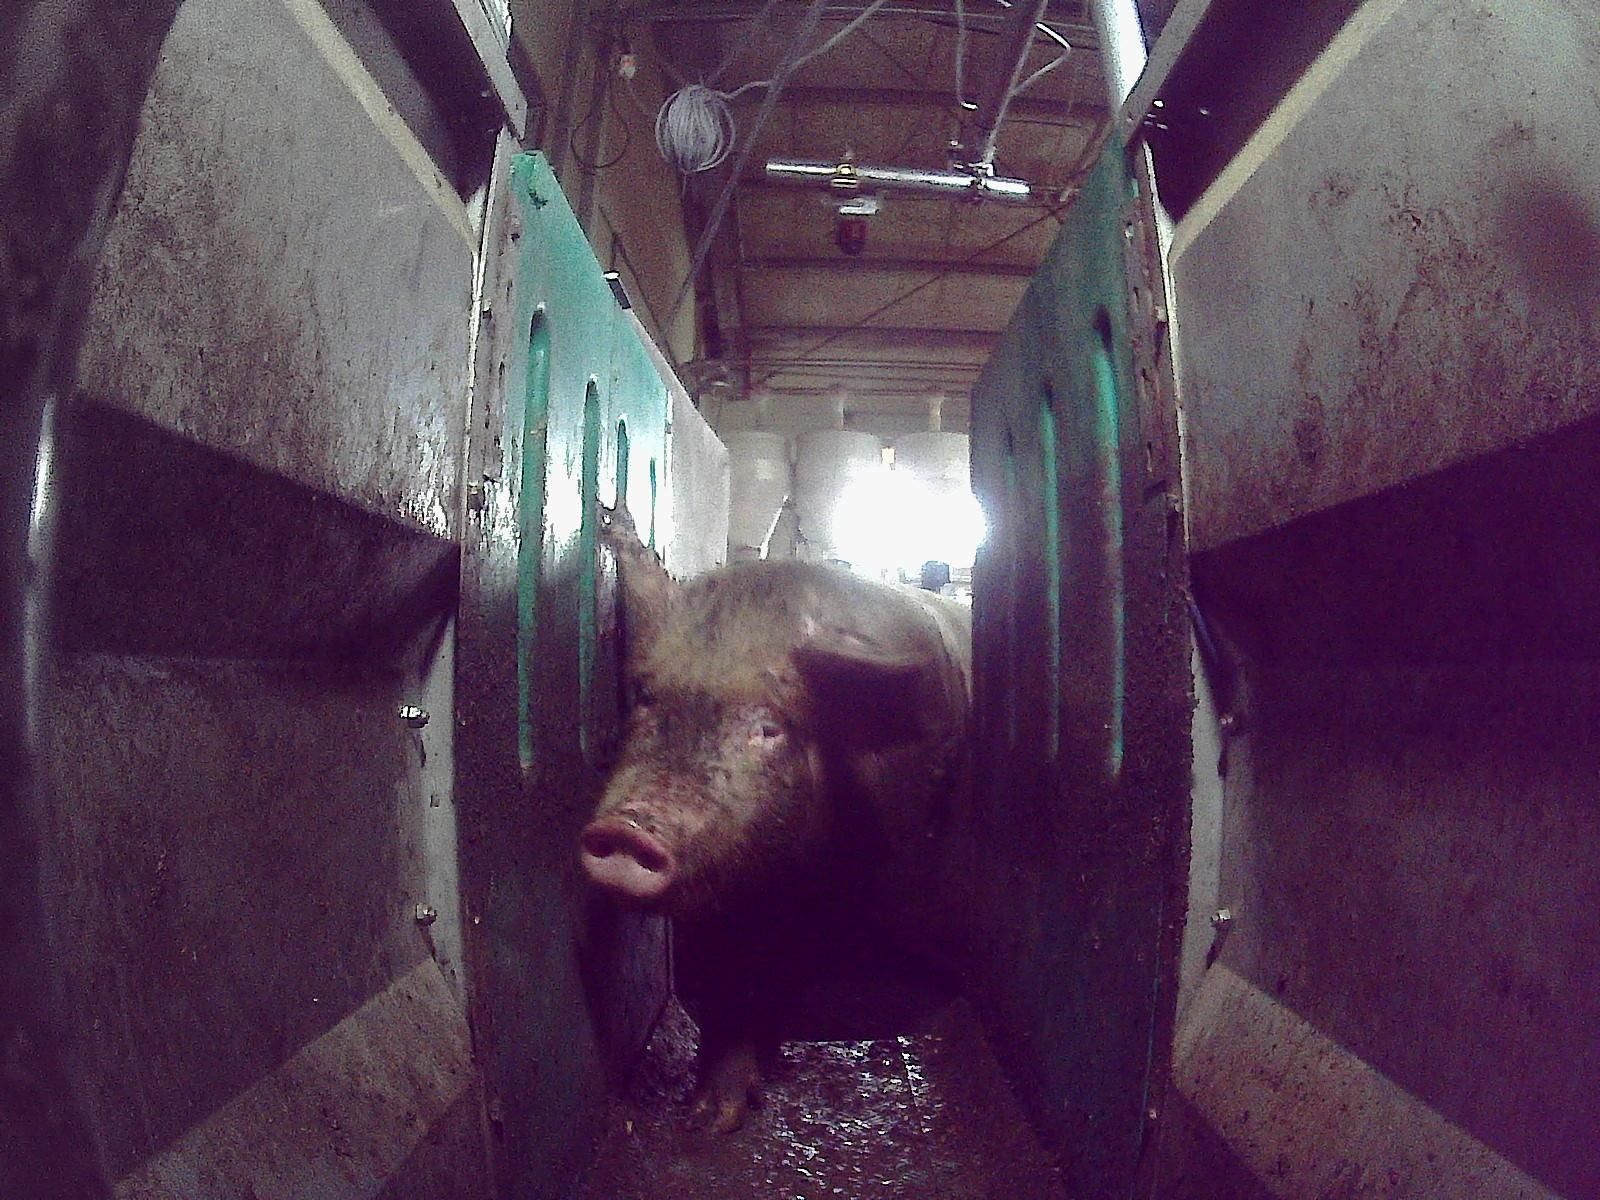Face: (578, 564, 842, 903)
